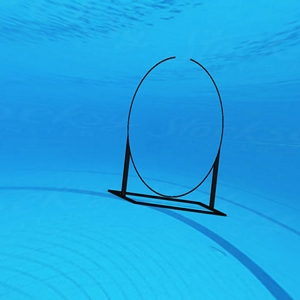circle: (108, 56, 229, 219)
